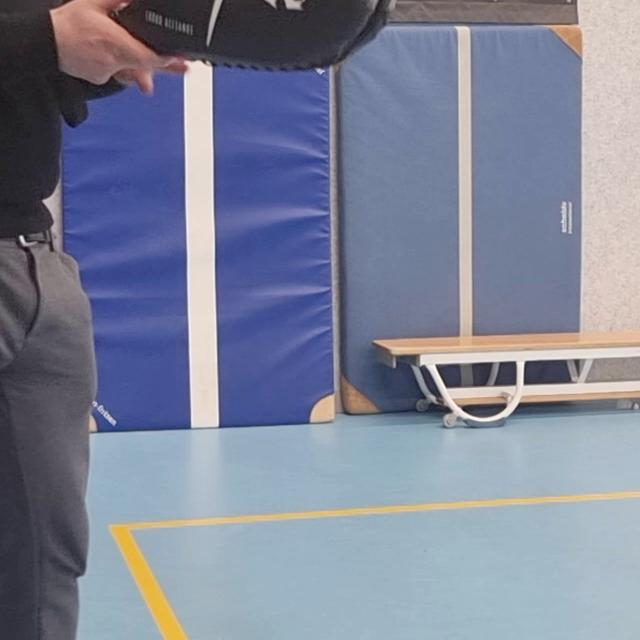paddle: (100, 0, 401, 70)
